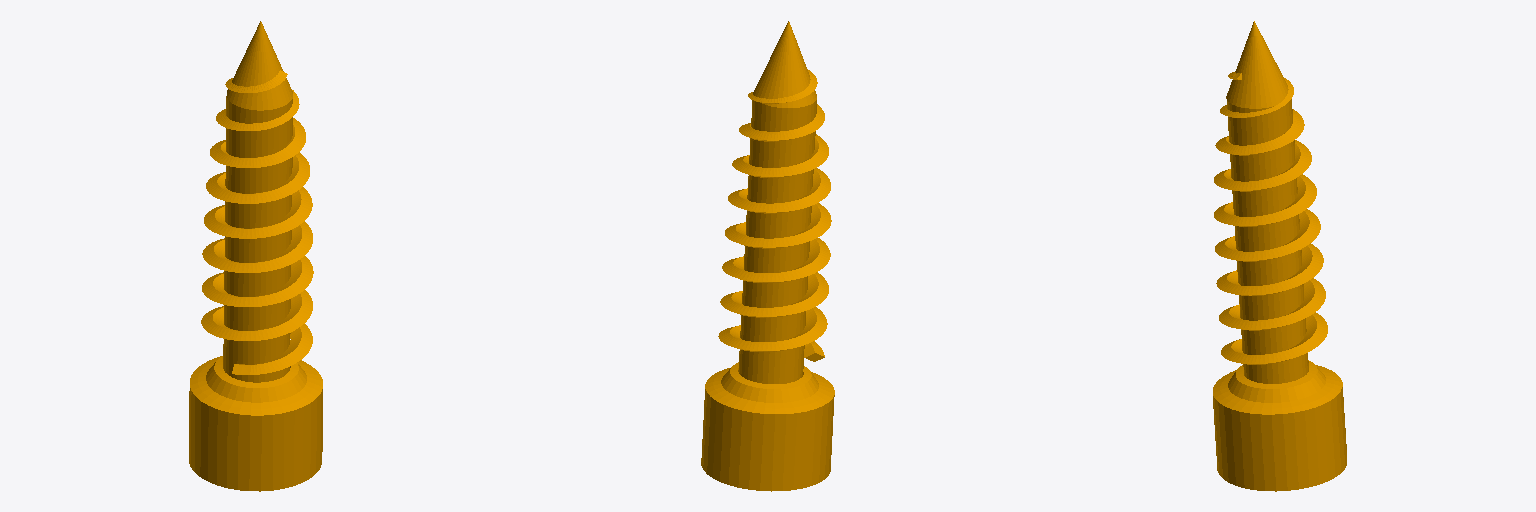
URDF robot description (mesh_object):
<?xml version="1.0" ?>
<robot name="mesh_object">
  <link name="base">
    <visual>
      <geometry>
        <mesh filename="corkscrew_3.obj" scale="1 1 1"/>
      </geometry>
    </visual>
    <collision>
      <geometry>
        <mesh filename="corkscrew_3.obj" scale="1 1 1"/>
      </geometry>
    </collision>
    <inertial>
      <origin xyz="0.001653 0.005199 -0.105000" rpy="0 0 0"/>
      <mass value="0.5"/>
      <inertia ixx="0.01" iyy="0.01" izz="0.01" ixy="0" ixz="0" iyz="0"/>
    </inertial>
  </link>
</robot>

--- Facts derived from the render (not from the file) ---
The picture shows the robot from 3 angles, left to right: view 1: azimuth 30°, elevation 25°; view 2: azimuth 150°, elevation 25°; view 3: azimuth 270°, elevation 25°; orthographic projection.
Model mesh_object with 1 links and 0 joints (none), rooted at base, posed every joint at zero.
Links seen in each view (by area): view 1: base; view 2: base; view 3: base.
Boxes of the visible links, x1=… form: base: x1=189, y1=21, x2=322, y2=491; base: x1=701, y1=21, x2=834, y2=491; base: x1=1213, y1=21, x2=1346, y2=491.
Bounding box of the posed robot: 0.0556 × 0.0568 × 0.21 m (x, y, z).
Meshes: 1 distinct files referenced, 1 mesh visuals loaded (1 OBJ).
